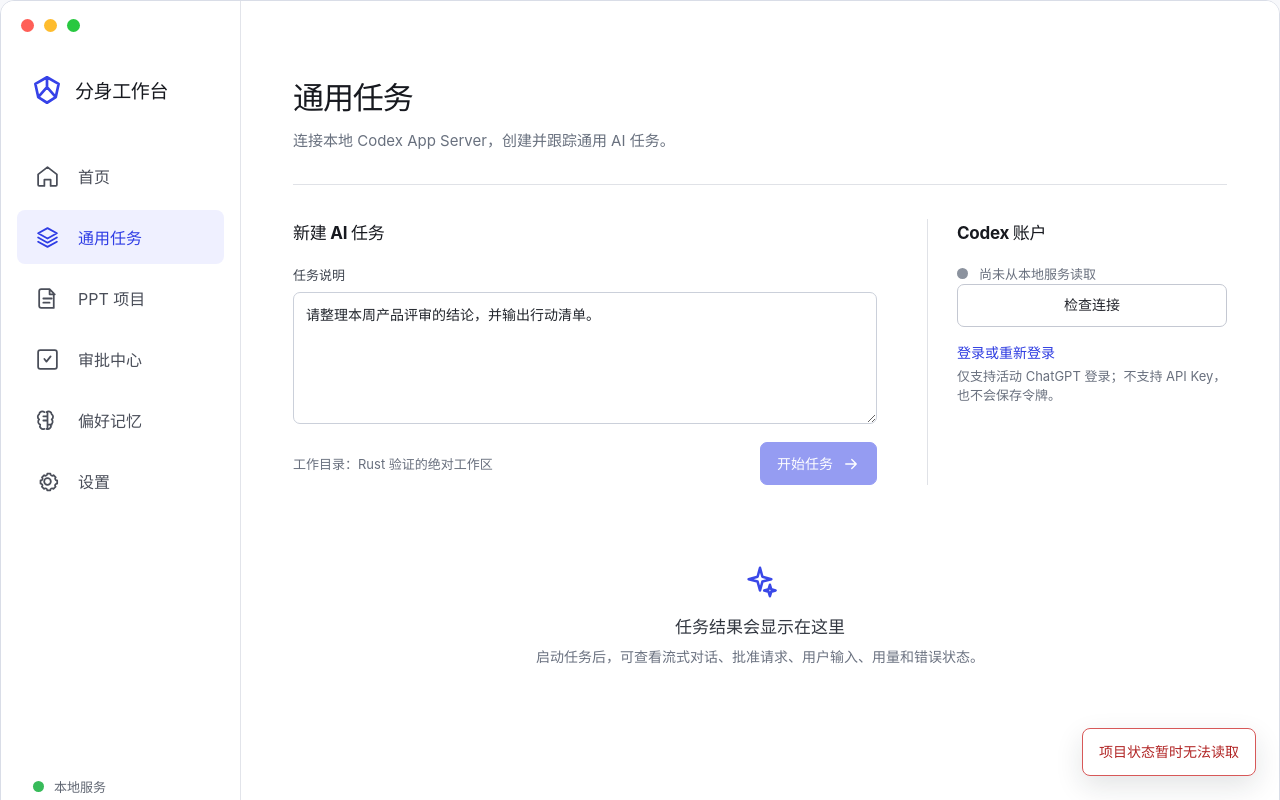
Test: shared Codex connection UI › can still check the account when loading project state fails
The width and height of the screenshot is (1280, 800).
Check: the message reads "项目状态暂时无法读取", box [1099, 743, 1239, 760]
Step 1. Click the button "检查连接" → (1092, 305), box [957, 284, 1227, 327]
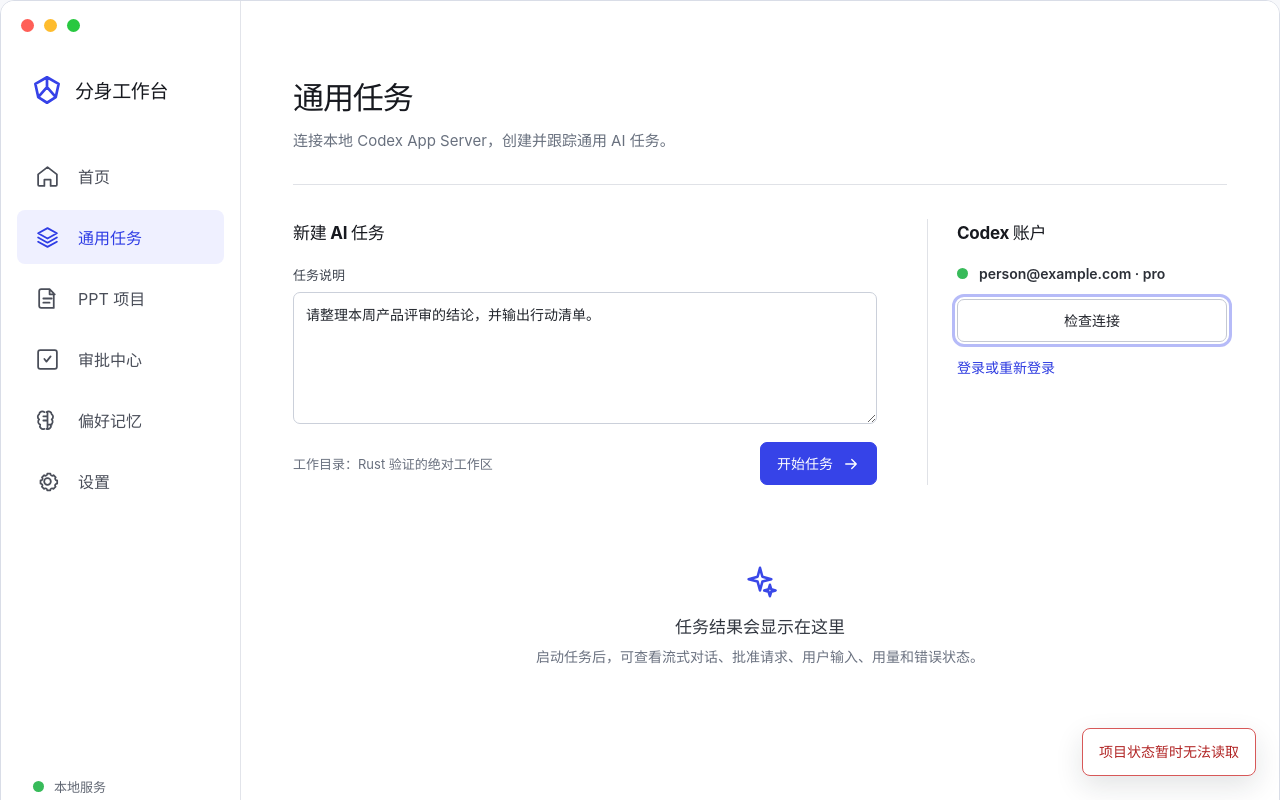
Check: the text "person@example.com · pro" is shown, box [957, 265, 1165, 282]
Step 2. Click the link "首页" → (94, 177), box [35, 164, 110, 188]
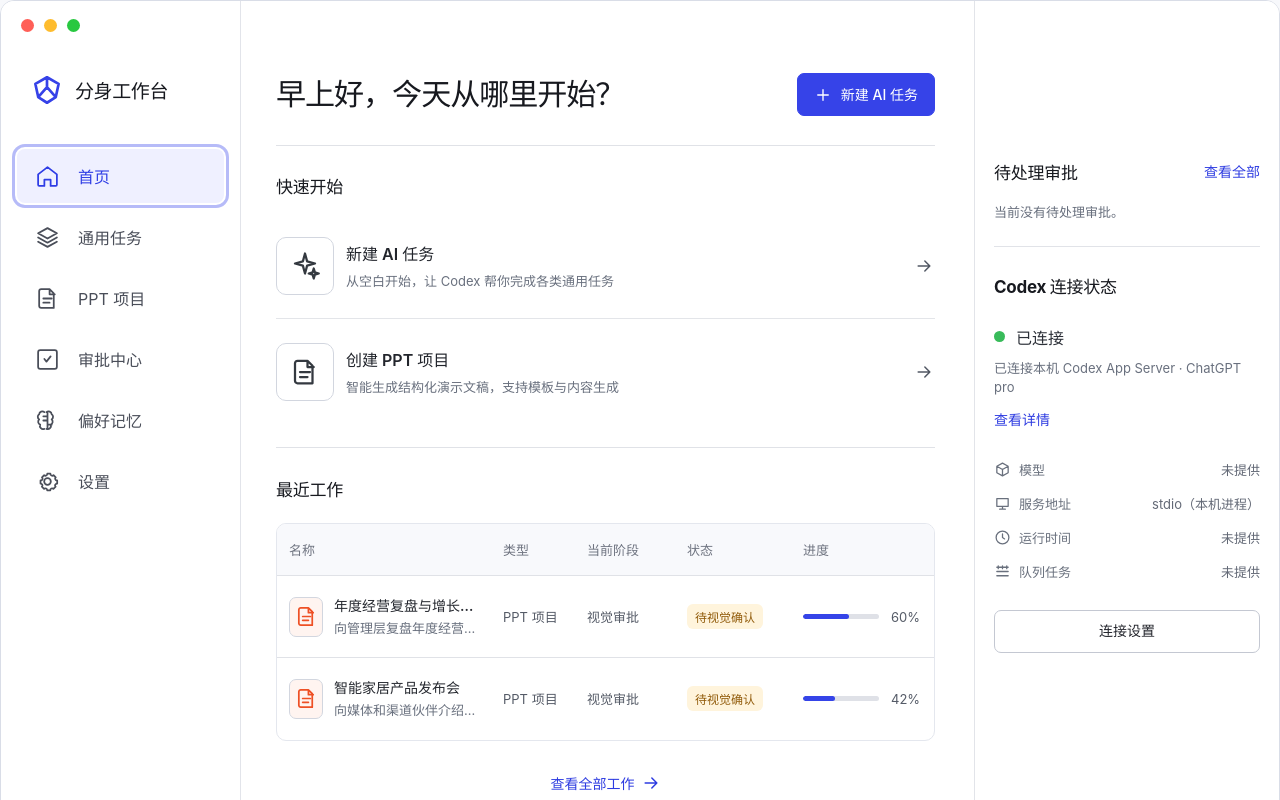
Check: the text "已连接" is shown, box [994, 328, 1064, 348]
